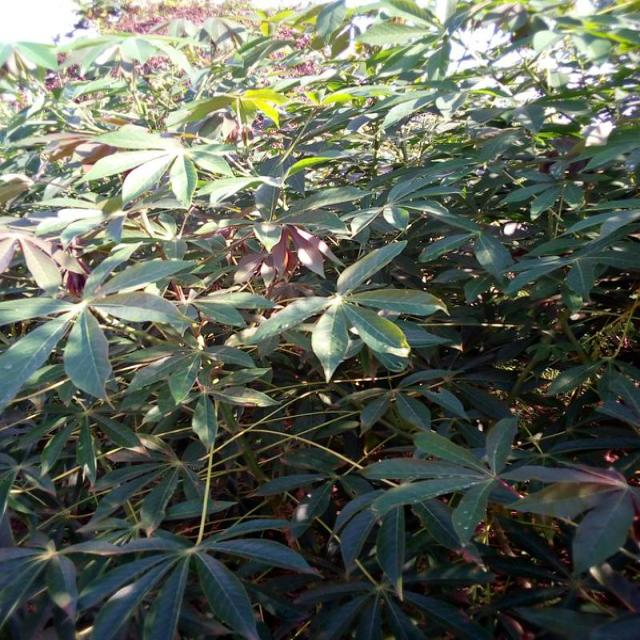cassava leaf: (1, 0, 638, 638), (246, 237, 448, 383)
